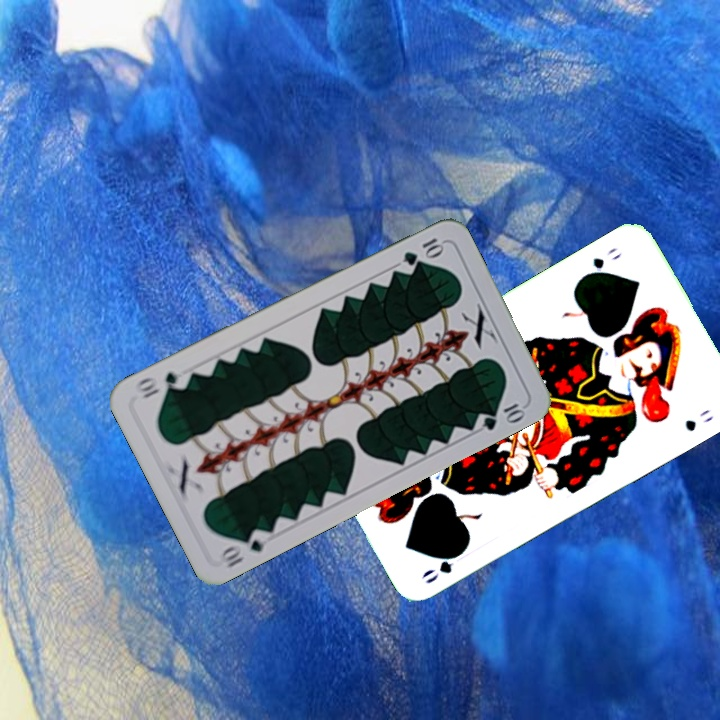G10: (215, 525, 273, 571), (399, 233, 447, 268)
GO: (417, 544, 469, 587), (578, 243, 625, 281)
